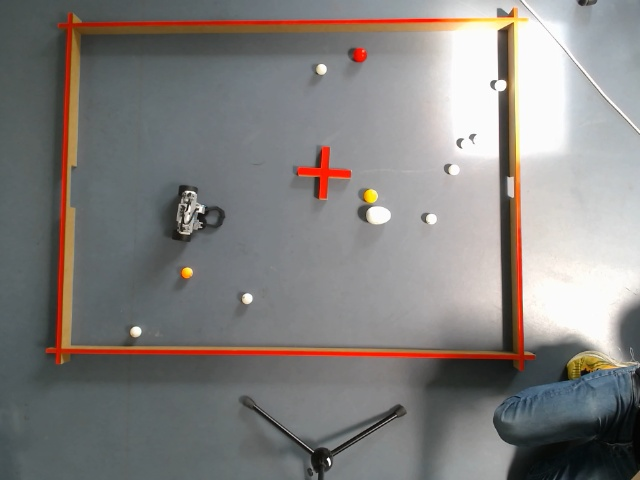big_goal: (58, 160, 81, 211)
cross: (291, 144, 353, 197)
egg: (365, 203, 392, 225)
orange: (180, 267, 193, 277)
robot: (172, 183, 224, 243)
small_goal: (503, 172, 522, 200)
wall: (42, 340, 539, 370), (42, 10, 82, 368), (57, 8, 534, 36), (501, 8, 537, 370)
white: (491, 77, 508, 93), (457, 137, 472, 150), (470, 132, 484, 145), (424, 212, 437, 225), (446, 164, 461, 175), (314, 63, 327, 75), (130, 326, 141, 337), (240, 293, 252, 303)
